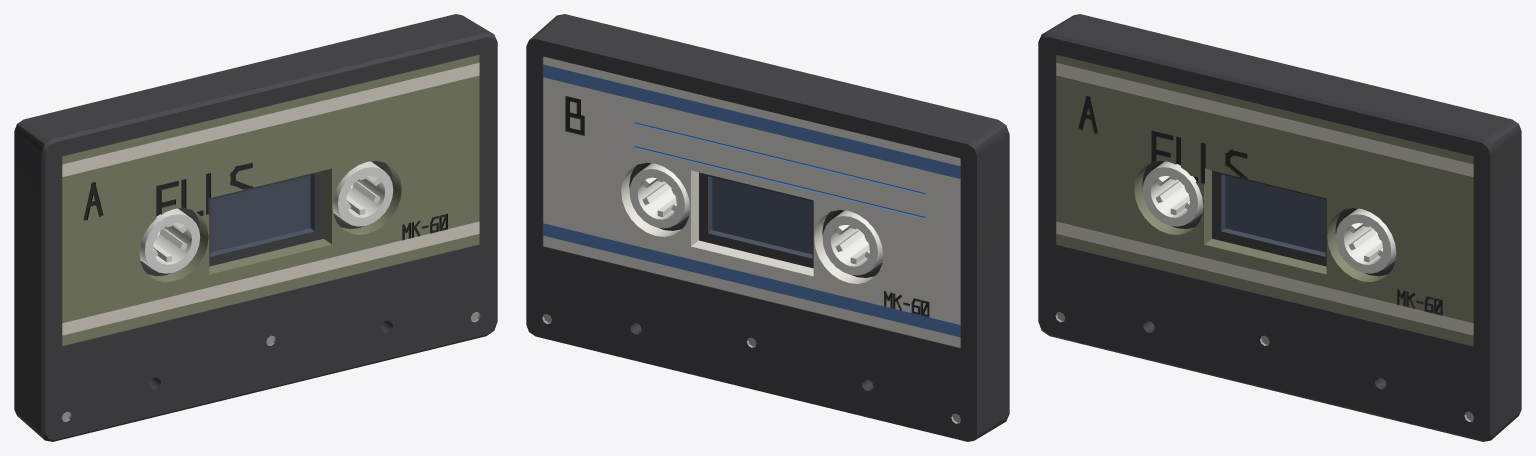
Rendered from tape_bells.glb.
The picture shows the model from 3 angles, left to right: view 1: azimuth 30°, elevation 25°; view 2: azimuth 150°, elevation 25°; view 3: azimuth 330°, elevation 25°; orthographic projection.
Parts seen in each view (by area): view 1: shell, label_a, hub_l, hub_r; view 2: shell, label_b, hub_l, hub_r; view 3: shell, label_a, hub_l, hub_r.
Boxes of the visible parts, box(x1,y1,x2,y2) form: shell: box(14, 14, 497, 441); label_a: box(62, 54, 479, 345); hub_l: box(139, 208, 200, 273); hub_r: box(332, 161, 393, 226); shell: box(526, 14, 1009, 441); label_b: box(543, 56, 960, 347); hub_l: box(822, 210, 883, 275); hub_r: box(629, 163, 689, 228); shell: box(1038, 14, 1521, 441); label_a: box(1056, 54, 1473, 345); hub_l: box(1142, 161, 1203, 226); hub_r: box(1335, 208, 1396, 273).
Size of the model in its own units: 0.1004 by 0.0638 by 0.012.
